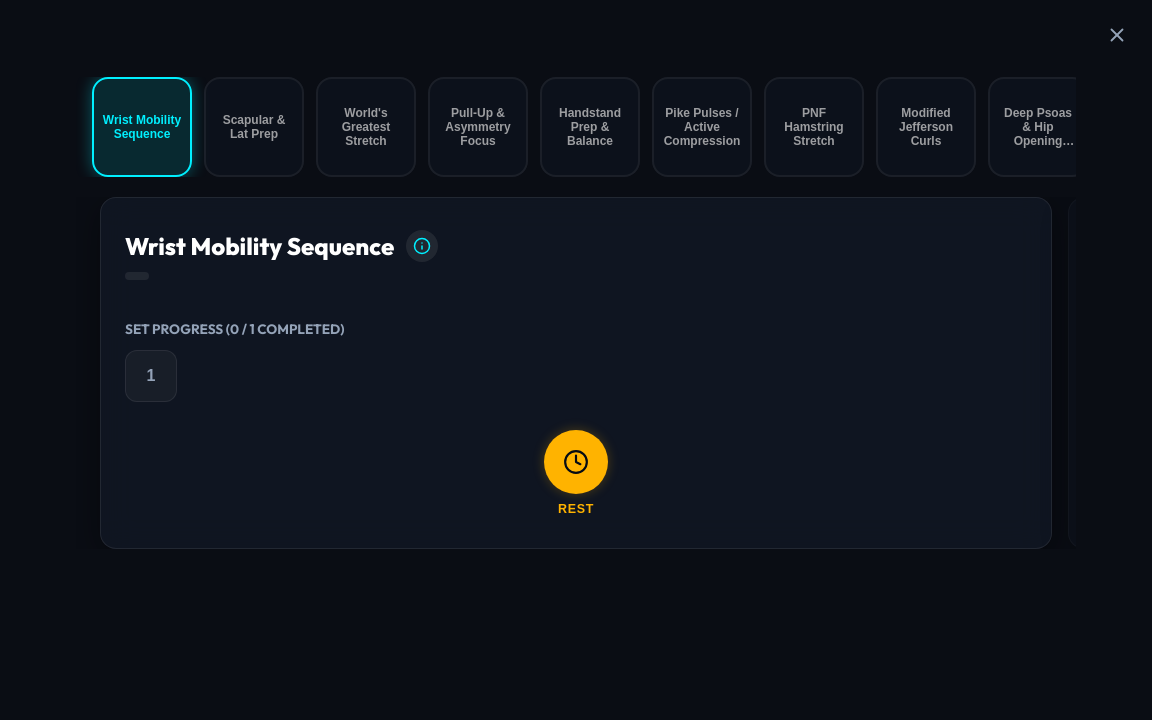
Test: LivePlayer Component › opens the rest timer drawer and starts the timer when Rest is tapped
Click the button "Rest" at [576, 473], box x1=544 y1=430 x2=608 y2=516
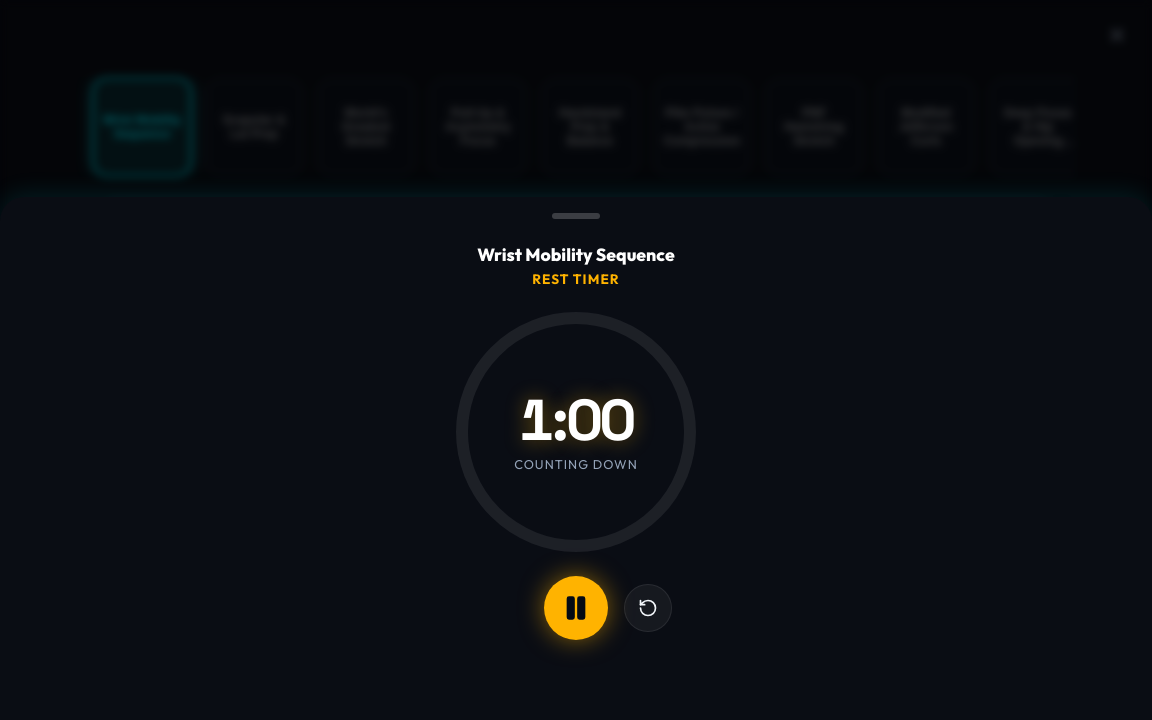
Now the text "Rest Timer" is shown, box x1=532 y1=270 x2=620 y2=288
Now the text "1:00" is shown, box x1=518 y1=392 x2=634 y2=450
